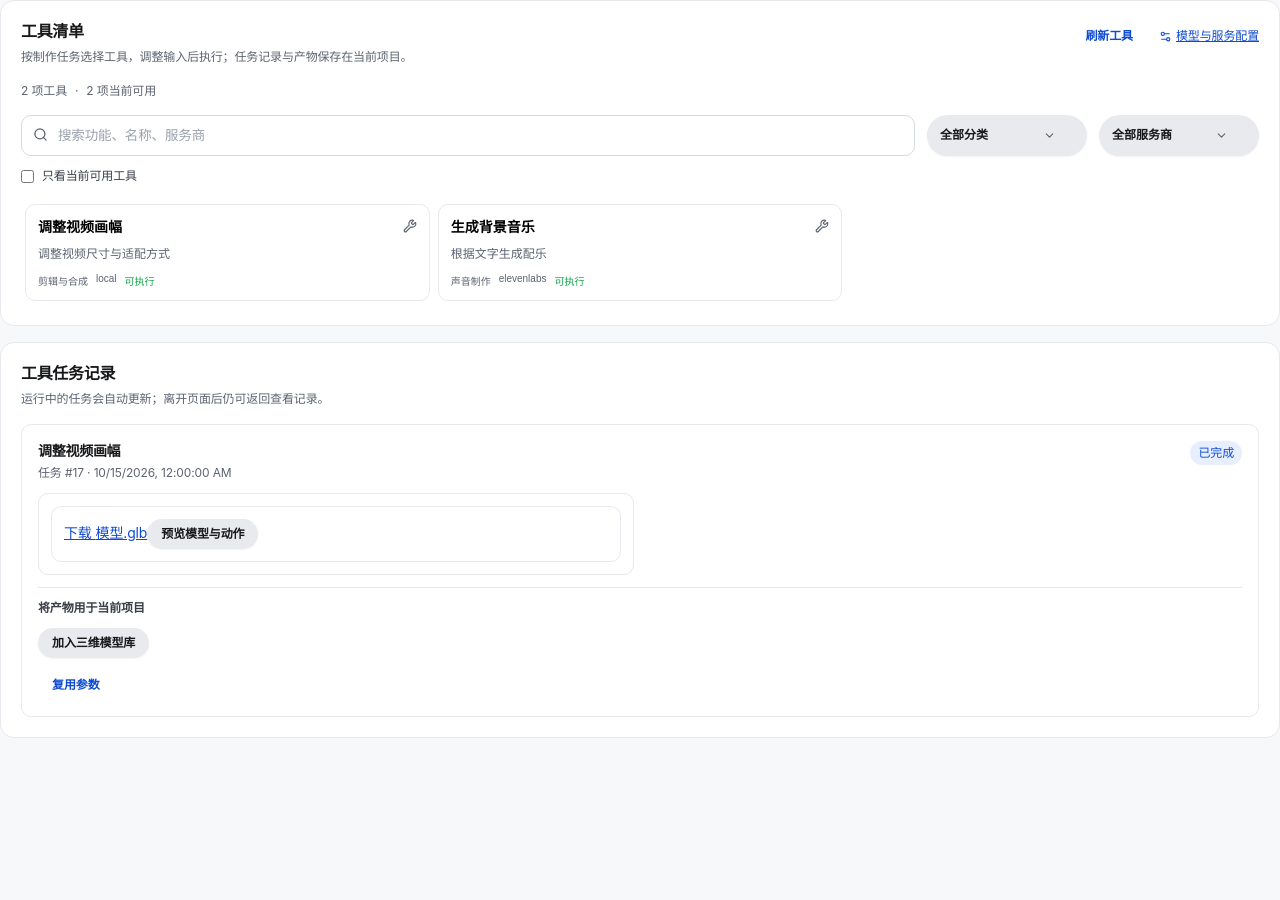
Test case: adds GLB output to the shared three-dimensional model library
Click the button "加入三维模型库".
click(94, 643)  # box top-left (38, 628), bottom-right (149, 658)
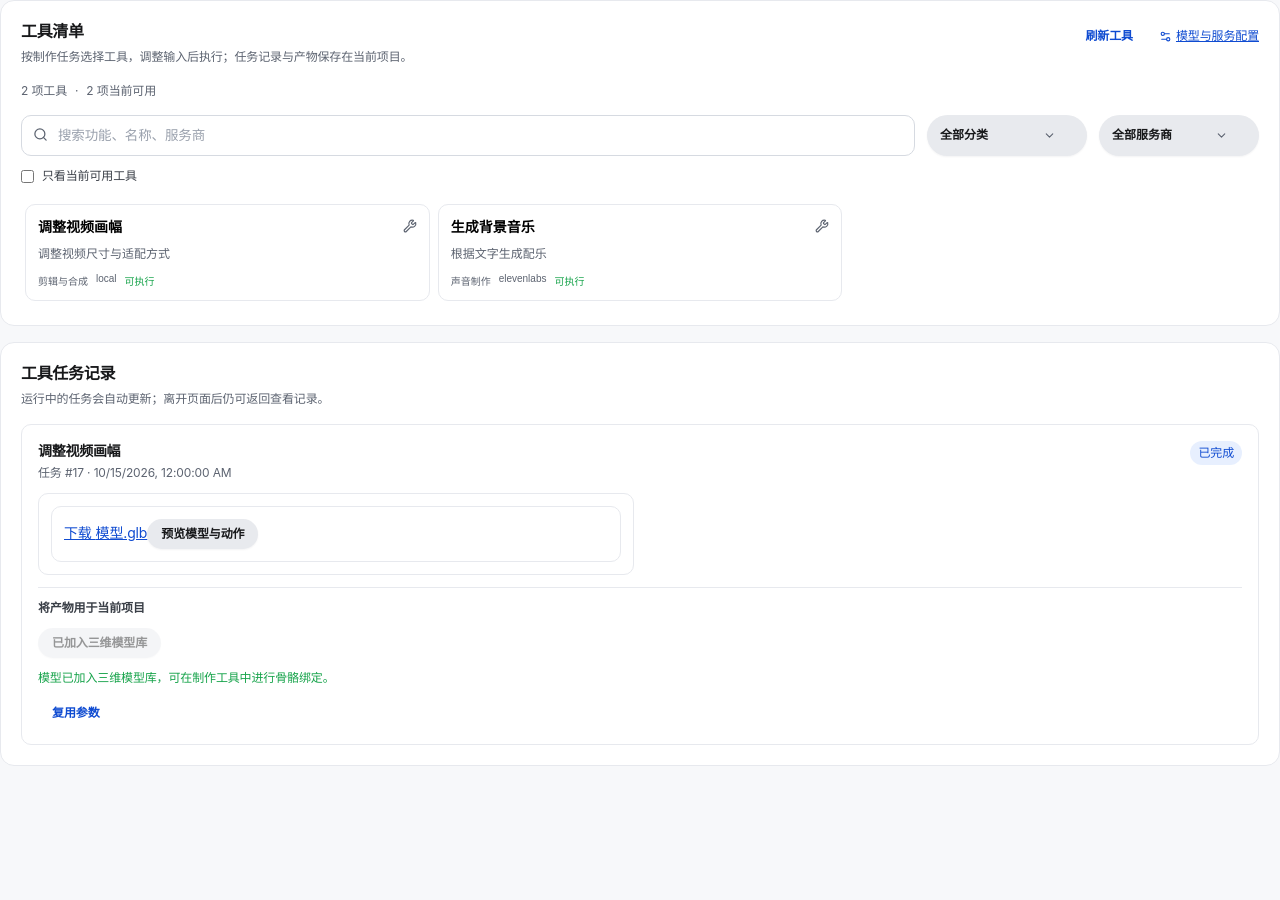
Now the button "已加入三维模型库" is disabled, box top-left (38, 628), bottom-right (161, 658)
